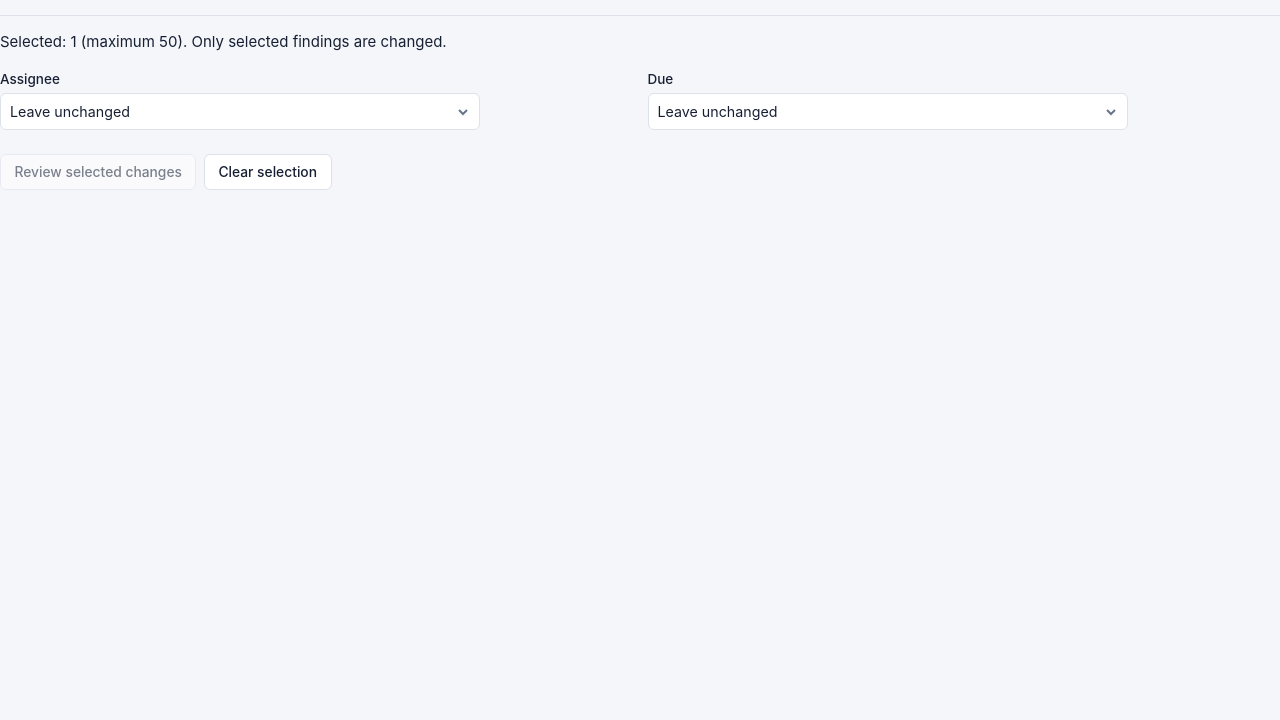
Test: previews current assignments and sends no changes until the reviewed batch is confirmed
The image size is (1280, 720).
Select "Technician" in the dropdown labelled "Assignee": (240, 112) [0,93,480,130]
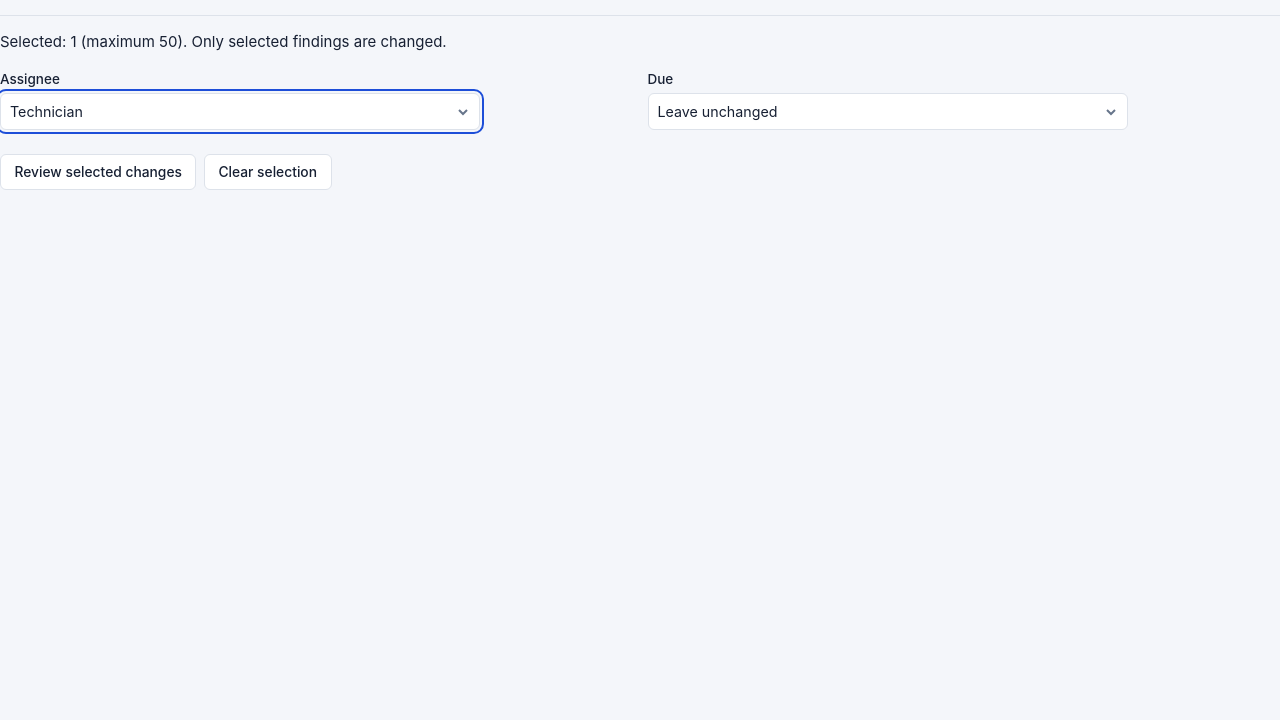
Click the button "Review selected changes": (98, 172) [0,154,196,190]
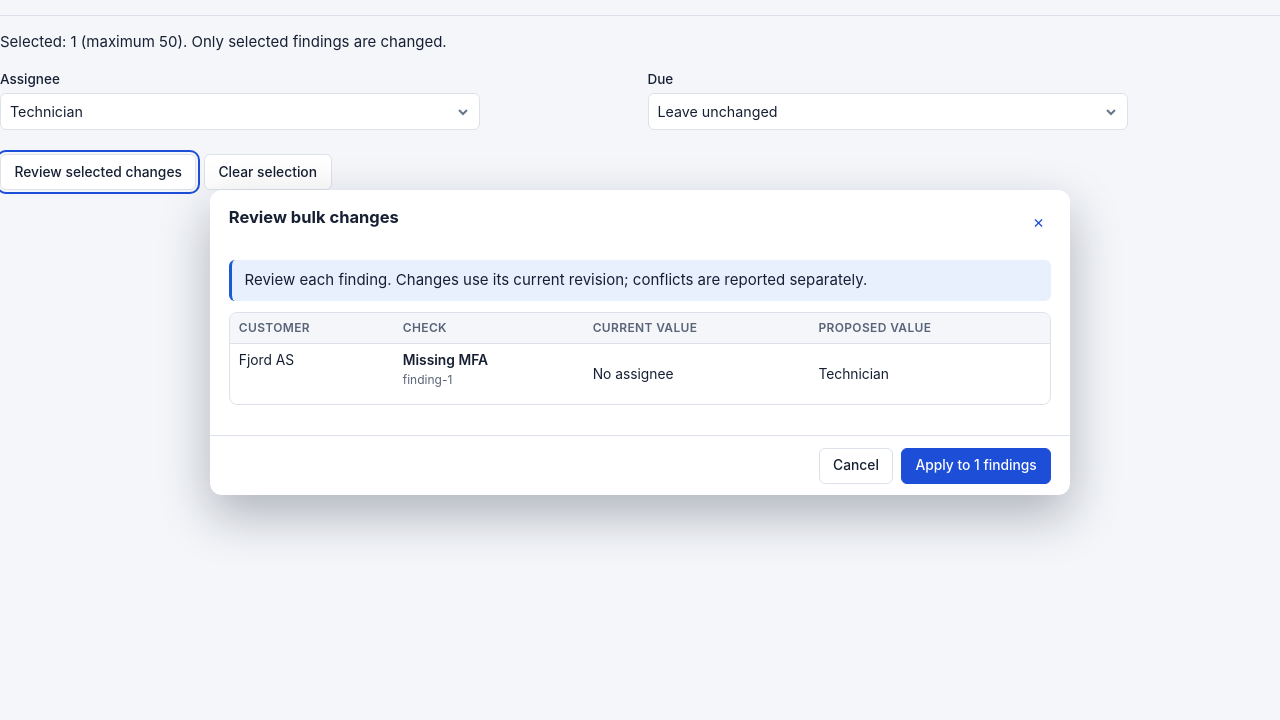
Now the heading "Review bulk changes" is shown, box [229,207,399,227]
Now the text "Fjord AS" is shown, box [230,344,394,404]
Click the button "Apply to 1 findings": (976, 466) [901,448,1051,484]
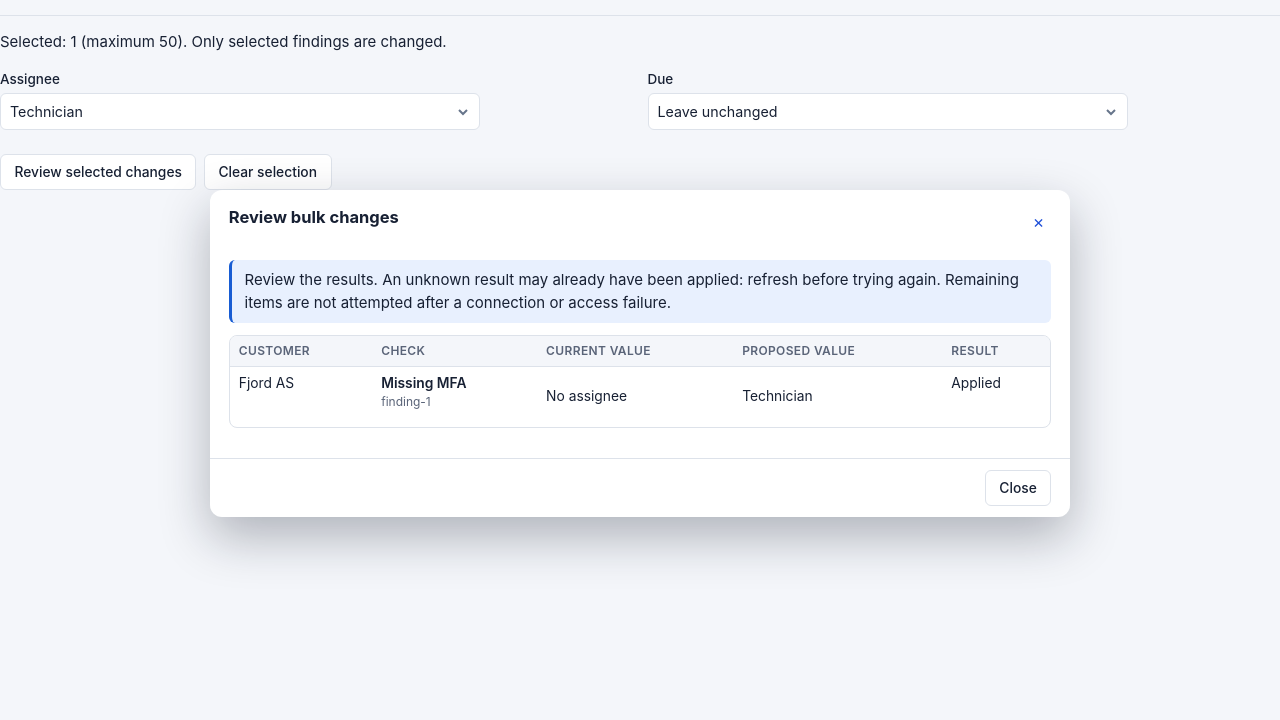
Now the text "Applied" is shown, box [942,366,1050,427]
